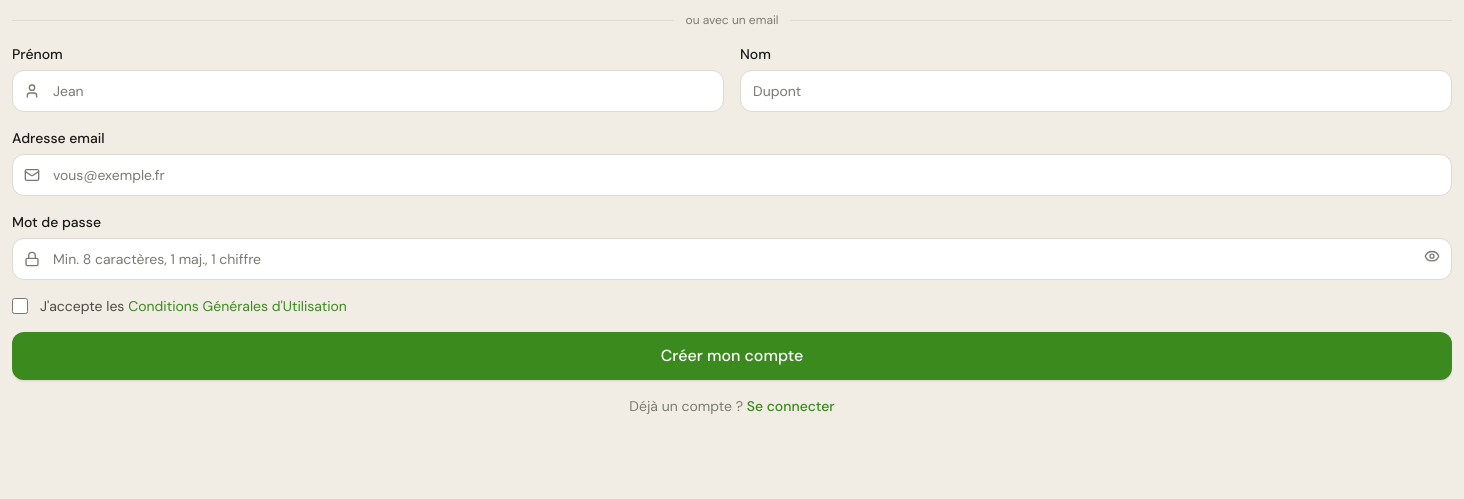
Test: RegisterForm — validation › affiche une erreur si les CGU ne sont pas acceptées
This screenshot has width=1464, height=499.
Type "nouveau@test.com" into the field labelled "Adresse email". click: point(732, 175)
box: [12, 154, 1452, 196]
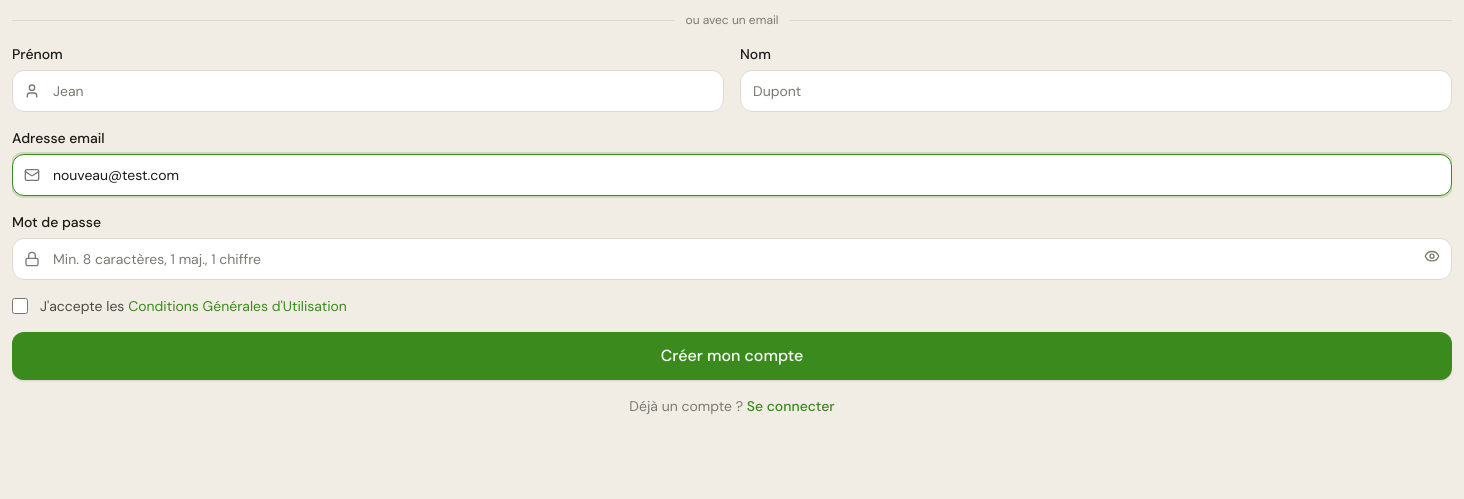
Type "Password1" into the password field labelled "Mot de passe". click: point(732, 259)
box: [12, 238, 1452, 280]
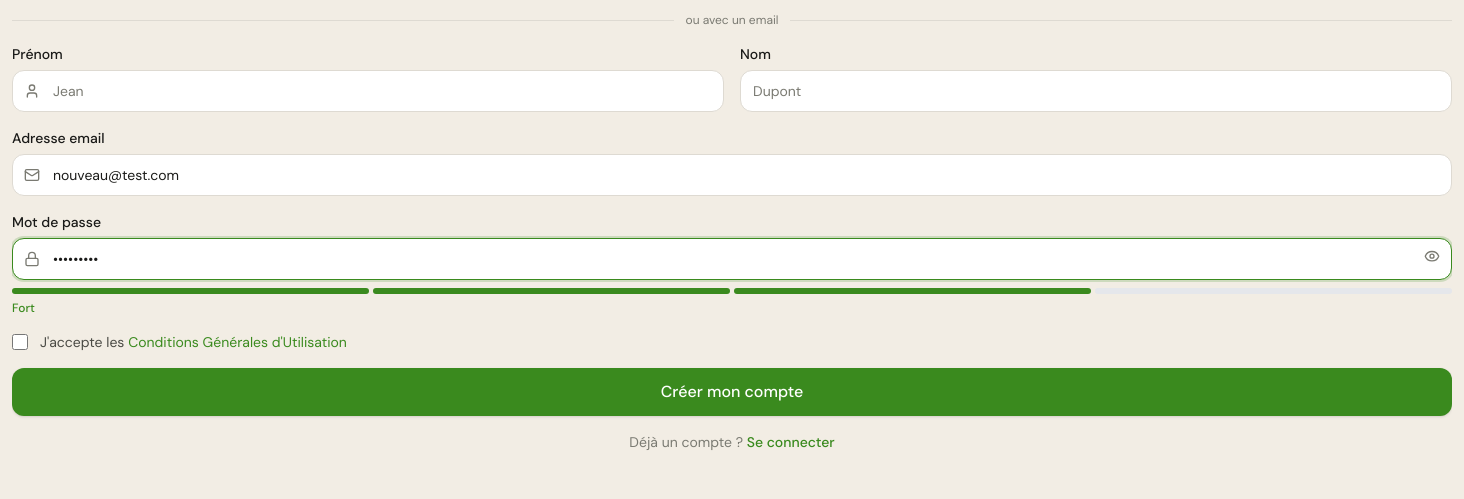
Note: Ne coche pas la case
Click the button "Créer mon compte". click: point(732, 392)
box: [12, 368, 1452, 416]
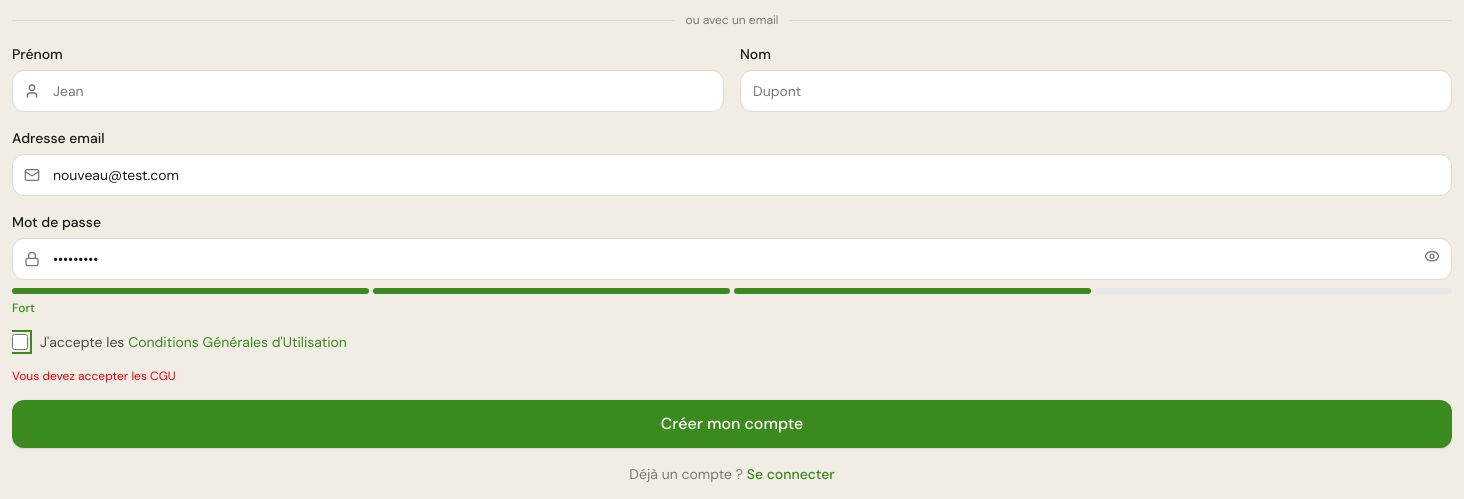
expect the text "Vous devez accepter les CGU" is shown: met, box [12, 368, 176, 384]
